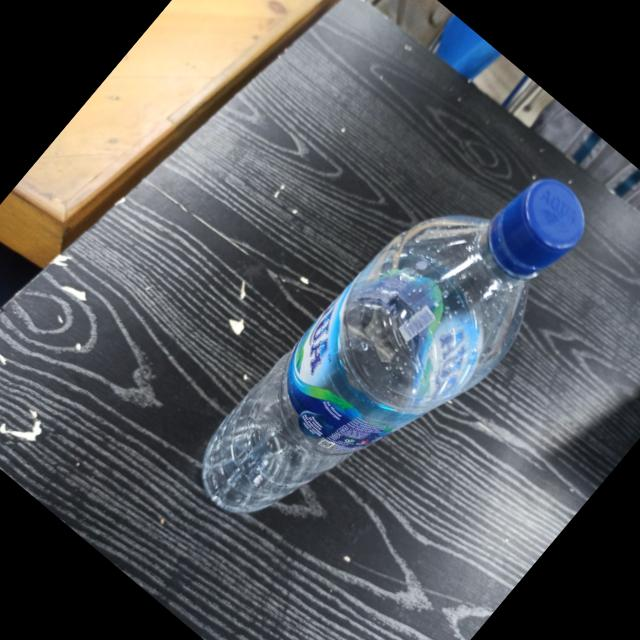BotolPlastik: (176, 110, 615, 586)
